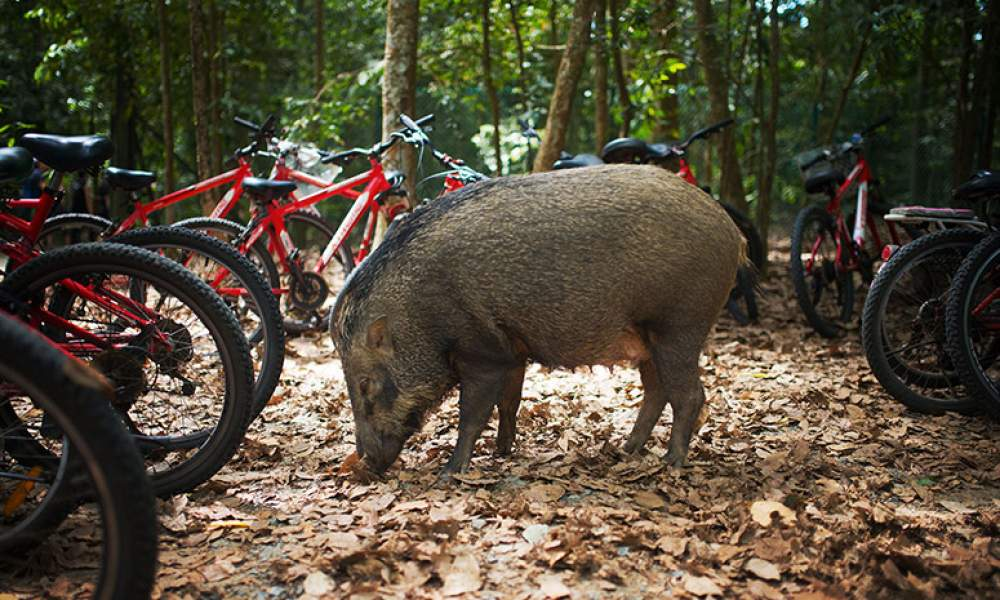boar: (323, 158, 754, 485)
